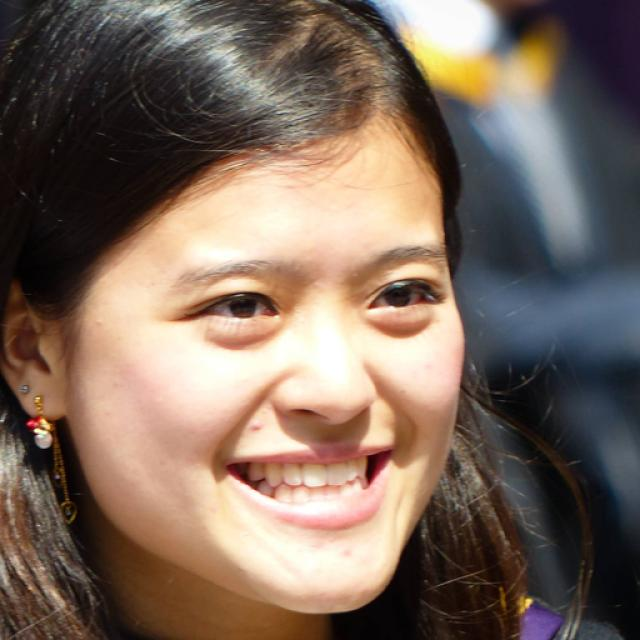Acne: (238, 409, 268, 432)
